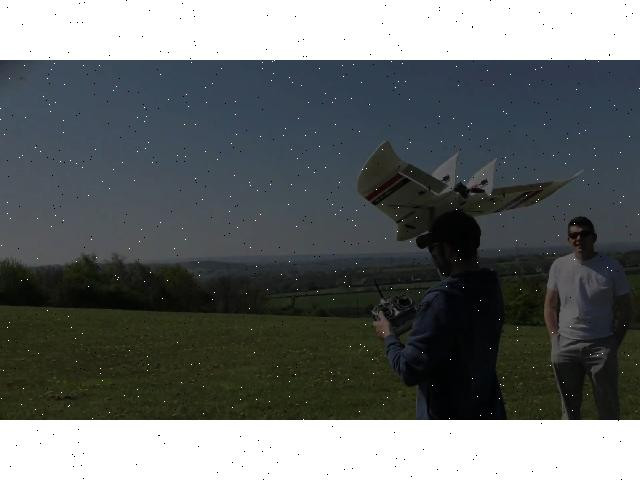Anti-Drone: (332, 129, 590, 255)
